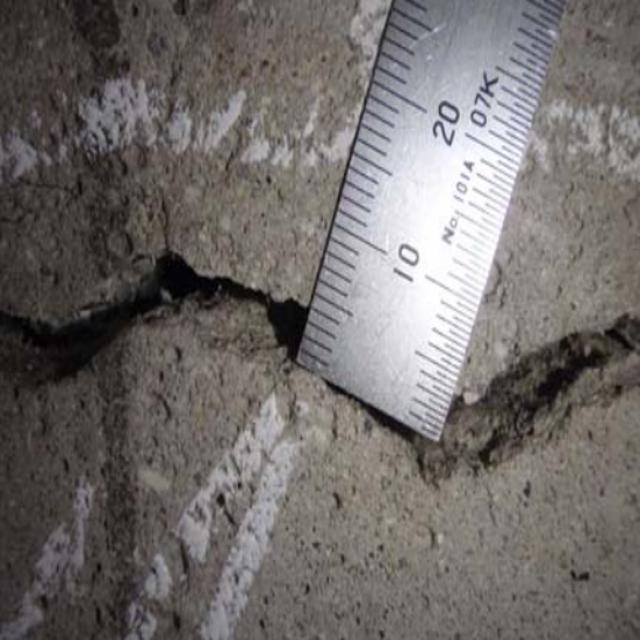crack: (6, 247, 296, 389), (454, 303, 636, 493)
